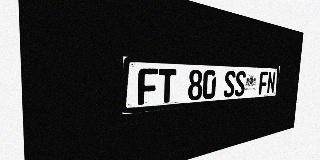0: (202, 70, 216, 99)
8: (188, 69, 203, 101)
F: (138, 68, 158, 105), (258, 71, 268, 95)
N: (267, 72, 276, 94)
S: (223, 70, 236, 98), (234, 71, 246, 97)
T: (158, 69, 176, 103)
